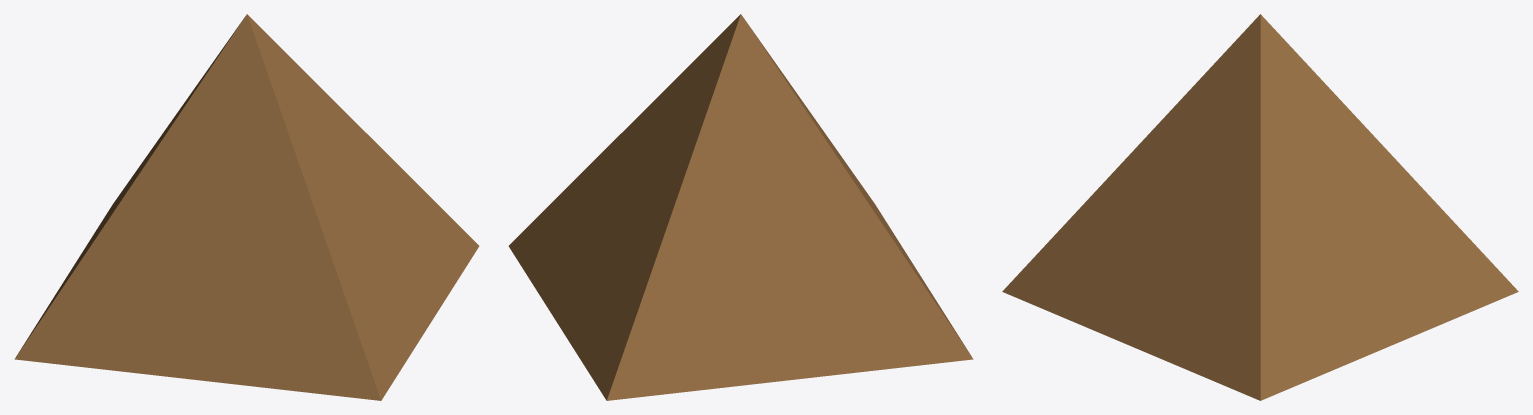
Rendered from Piramide.fbx.
3 views of the same model, side by side, from view 1: azimuth 30°, elevation 25°; view 2: azimuth 150°, elevation 25°; view 3: azimuth 270°, elevation 25° (orthographic). The views are drawn at different scales.
Parts seen in each view (by area): view 1: pPyramid1; view 2: pPyramid1; view 3: pPyramid1.
Boxes of the visible parts, <box> form: pPyramid1: <box>14,14,479,400</box>; pPyramid1: <box>508,14,973,400</box>; pPyramid1: <box>1002,14,1518,400</box>.
Size of the model in its own units: 11.87 by 7.04 by 11.87.
